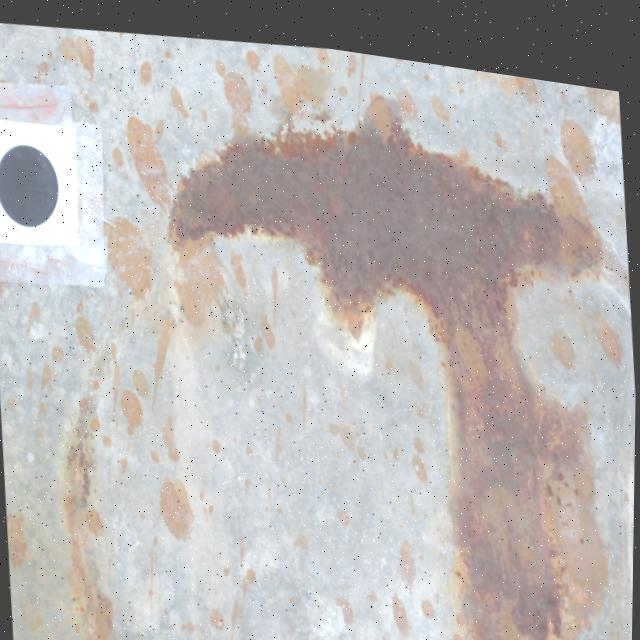corrosion: (169, 86, 609, 640)
